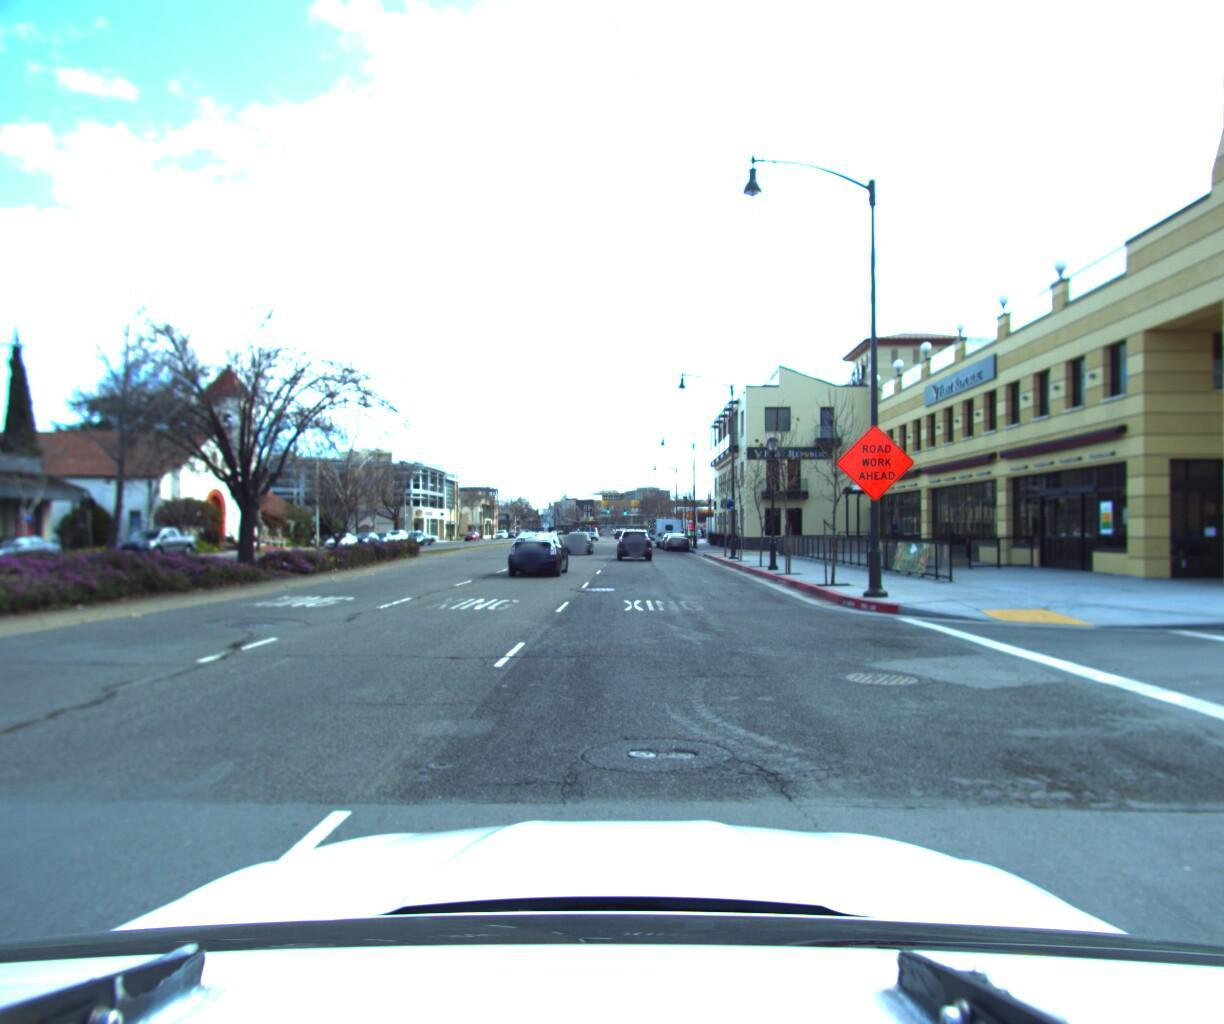car: (112, 526, 206, 561), (502, 526, 570, 573), (609, 525, 645, 557), (322, 528, 362, 547), (563, 526, 593, 550), (665, 527, 694, 547)
other_vehicle: (656, 511, 685, 544)
